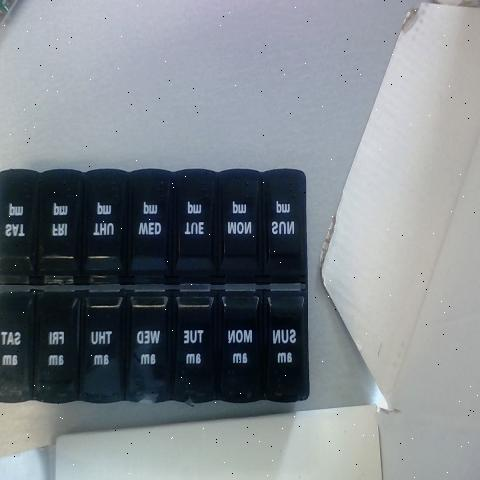FRI-am: (35, 291, 79, 398)
FRI-pm: (43, 176, 82, 274)
MON-am: (217, 297, 261, 397)
MON-pm: (219, 174, 255, 276)
SAT-am: (0, 288, 31, 397)
SAT-pm: (0, 171, 37, 274)
SUN-am: (266, 292, 306, 390)
SUN-pm: (266, 167, 303, 278)
THU-am: (84, 291, 125, 396)
THU-pm: (86, 173, 125, 277)
TUE-am: (177, 290, 212, 391)
TUE-pm: (176, 170, 213, 272)
WED-am: (130, 291, 170, 396)
WED-pm: (132, 172, 172, 274)
